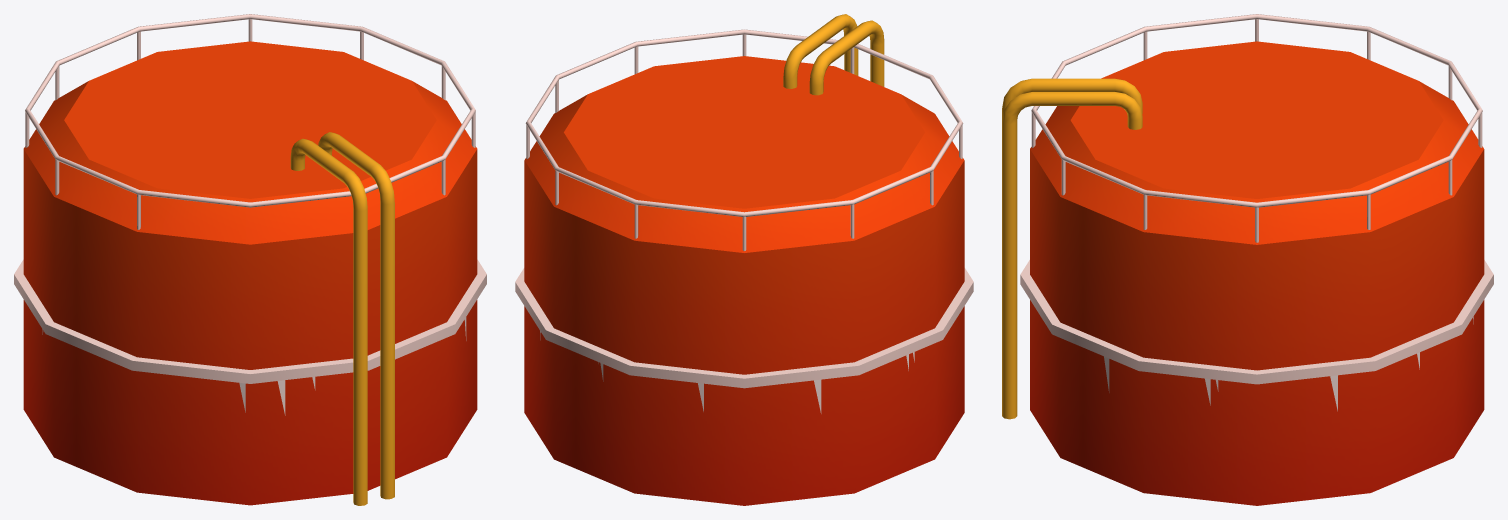
File: Prop_Oil_Storage_01.fbx
3 renders of one model, left to right at view 1: azimuth 30°, elevation 25°; view 2: azimuth 150°, elevation 25°; view 3: azimuth 270°, elevation 25°, orthographic. The views are drawn at different scales.
Parts seen in each view (by area): view 1: Prop_Oil_Storage_01; view 2: Prop_Oil_Storage_01; view 3: Prop_Oil_Storage_01.
Boxes of the visible parts, x1=… form: Prop_Oil_Storage_01: x1=14, y1=14, x2=486, y2=505; Prop_Oil_Storage_01: x1=515, y1=14, x2=973, y2=505; Prop_Oil_Storage_01: x1=1002, y1=14, x2=1493, y2=505.
Bounding box in the file's own units: 625 × 473 × 649.
